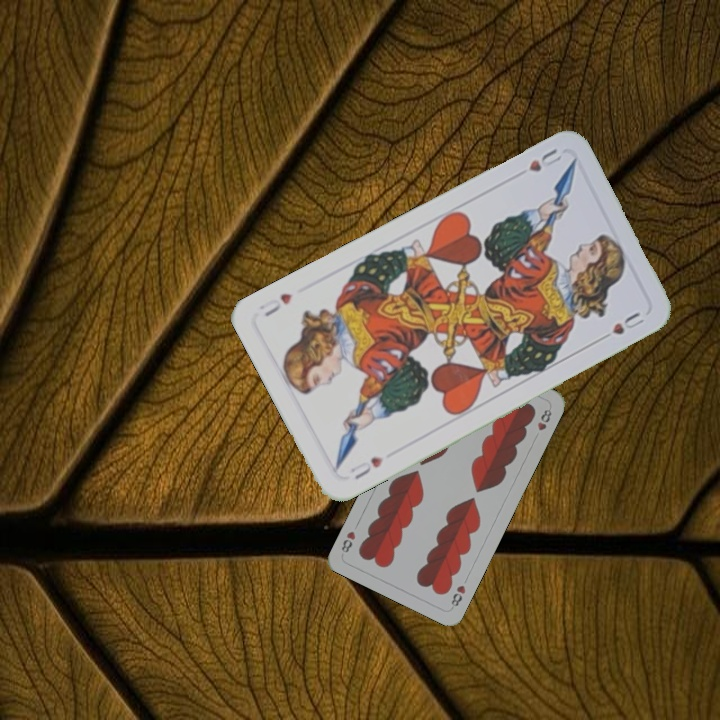H8: (447, 581, 468, 611)
HU: (525, 144, 564, 175), (345, 453, 386, 482)
